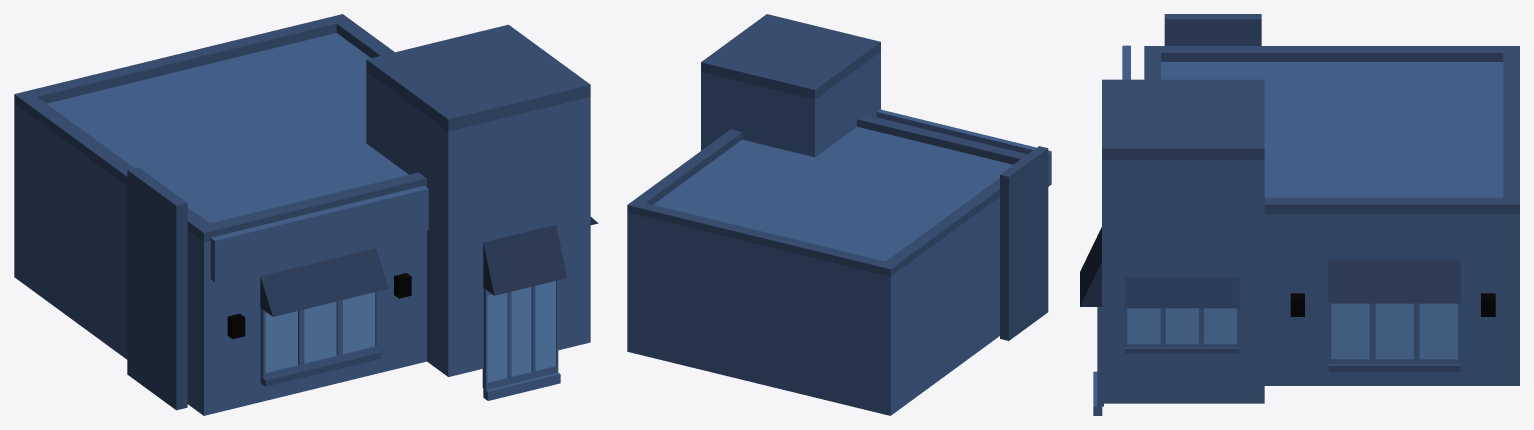
The model's file is Shop.obj.
The picture shows the model from 3 angles, left to right: view 1: azimuth 30°, elevation 25°; view 2: azimuth 150°, elevation 25°; view 3: azimuth 270°, elevation 25°; orthographic projection. The views are drawn at different scales.
Parts seen in each view (by area): view 1: Cube.001, Cube, Cube.012, Cube.011, Cube.010, Cube.007; view 2: Cube.001, Cube, Cube.011, Cube.007; view 3: Cube.001, Cube, Cube.008, Cube.006, Cube.011, Cube.010.
Part boxes in pixels (box(x1,y1,x2,y2)): Cube.001: box(14, 14, 426, 415); Cube: box(366, 24, 590, 376); Cube.012: box(227, 248, 411, 386); Cube.011: box(127, 167, 187, 410); Cube.010: box(482, 225, 566, 400); Cube.007: box(210, 185, 428, 282); Cube.001: box(627, 114, 1027, 415); Cube: box(701, 14, 880, 157); Cube.011: box(1000, 146, 1048, 340); Cube.007: box(876, 109, 1051, 186); Cube.001: box(1144, 46, 1519, 385); Cube: box(1102, 79, 1264, 403); Cube.008: box(1290, 259, 1495, 371); Cube.006: box(1124, 277, 1239, 353); Cube.011: box(1164, 14, 1261, 45); Cube.010: box(1080, 227, 1103, 415).
Bounding box in the file's own units: 24.86 × 16.95 × 23.78.
